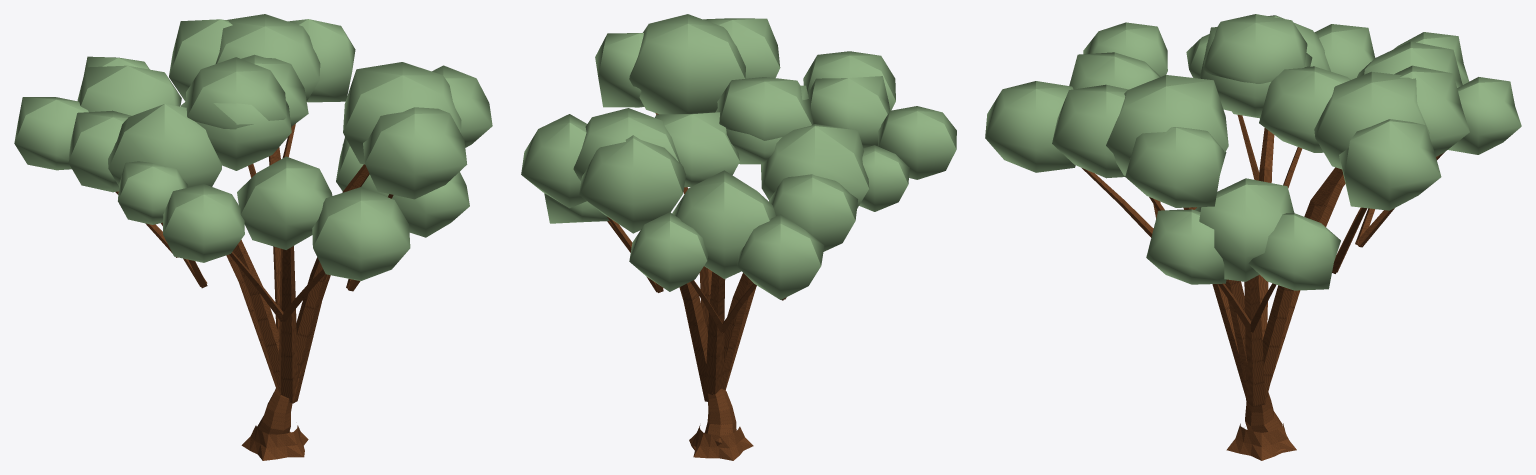
File: oak-old.glb
3 renders of one model, left to right at view 1: azimuth 30°, elevation 25°; view 2: azimuth 150°, elevation 25°; view 3: azimuth 270°, elevation 25°, orthographic. The views are drawn at different scales.
Visible parts, largest first — view 1: oak-old; view 2: oak-old; view 3: oak-old.
Part boxes in pixels (<box>): oak-old: <box>14,14,492,460</box>; oak-old: <box>521,14,956,460</box>; oak-old: <box>985,14,1521,460</box>.
Size of the model in its own units: 14.83 by 15.59 by 18.84.
Materials: 2 (1 with a texture image).
